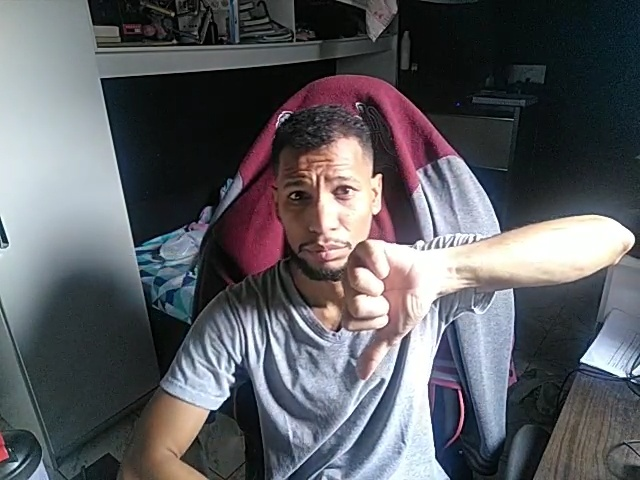não: (334, 232, 432, 384)
